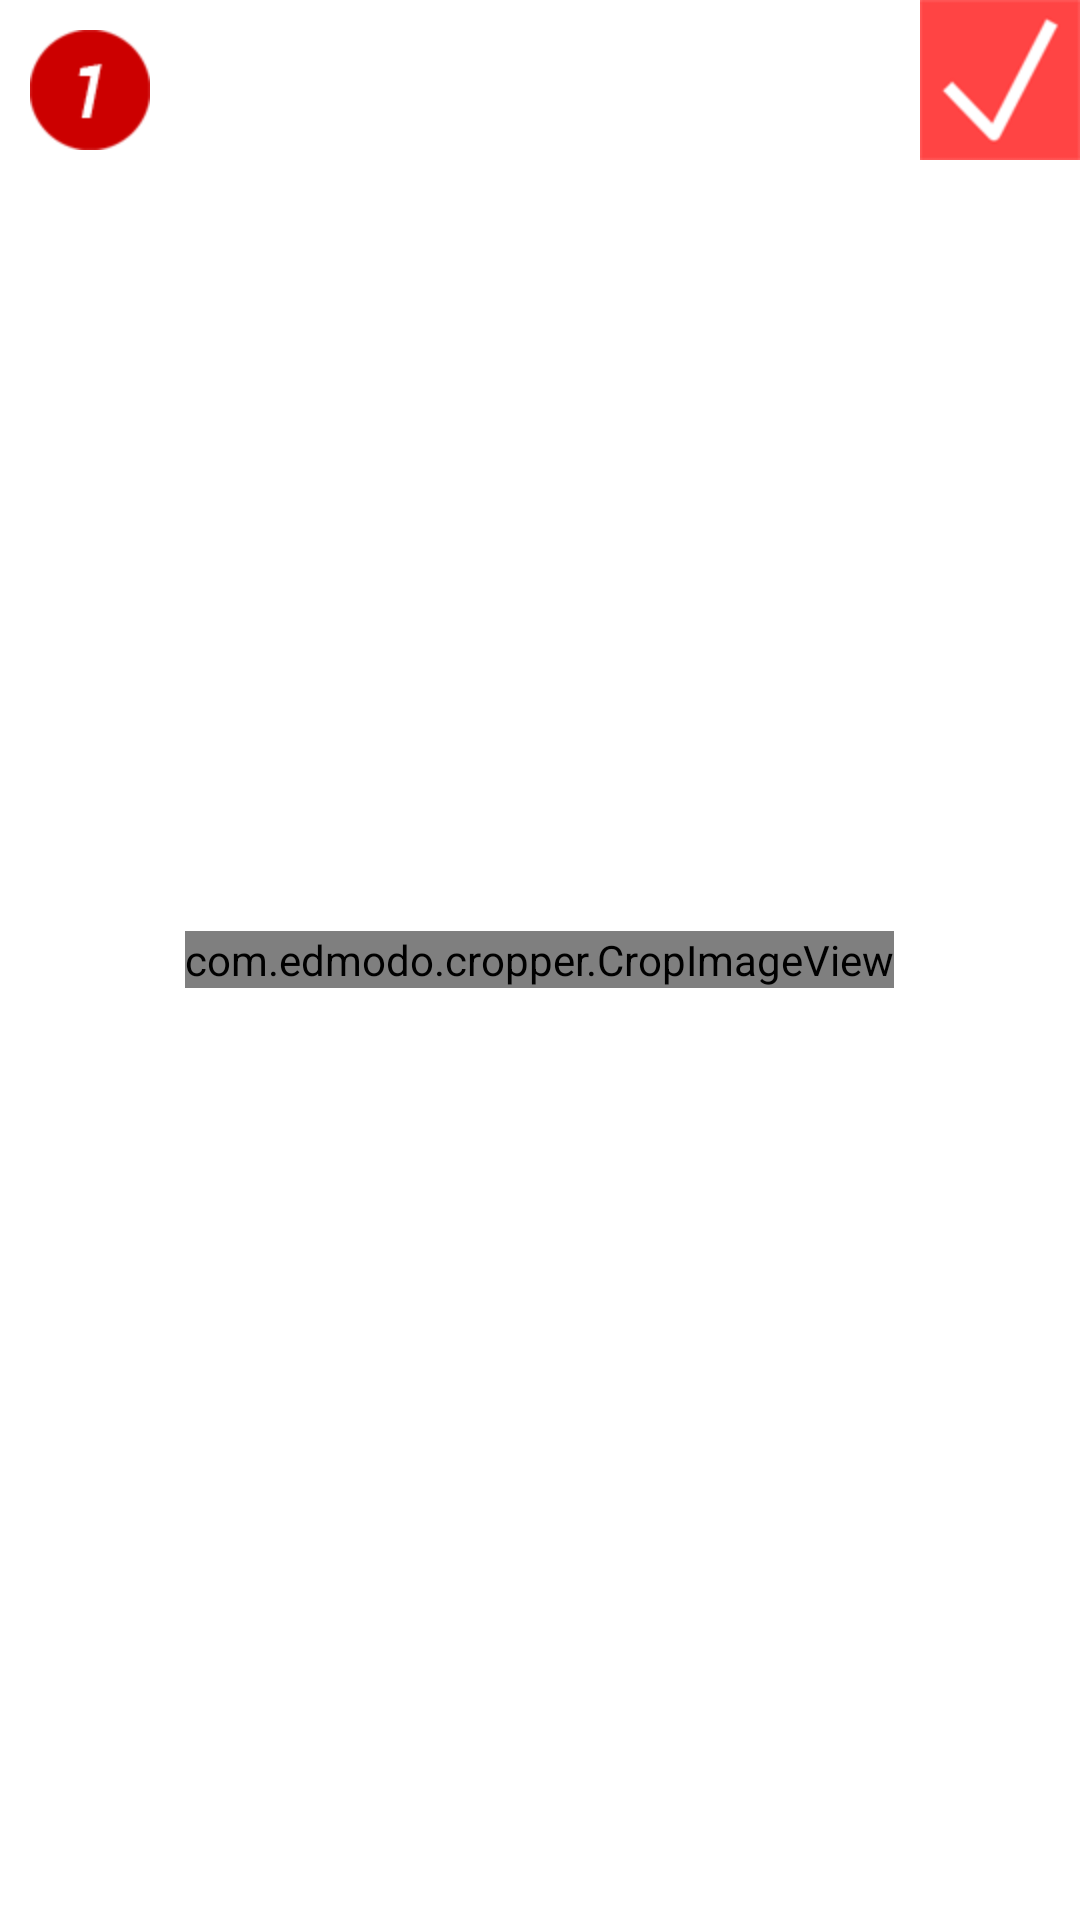

Icons on this 1080 × 1920 Android screen, each with its box as [x1, y1, x2, y2]:
step: [30, 30, 150, 150]
